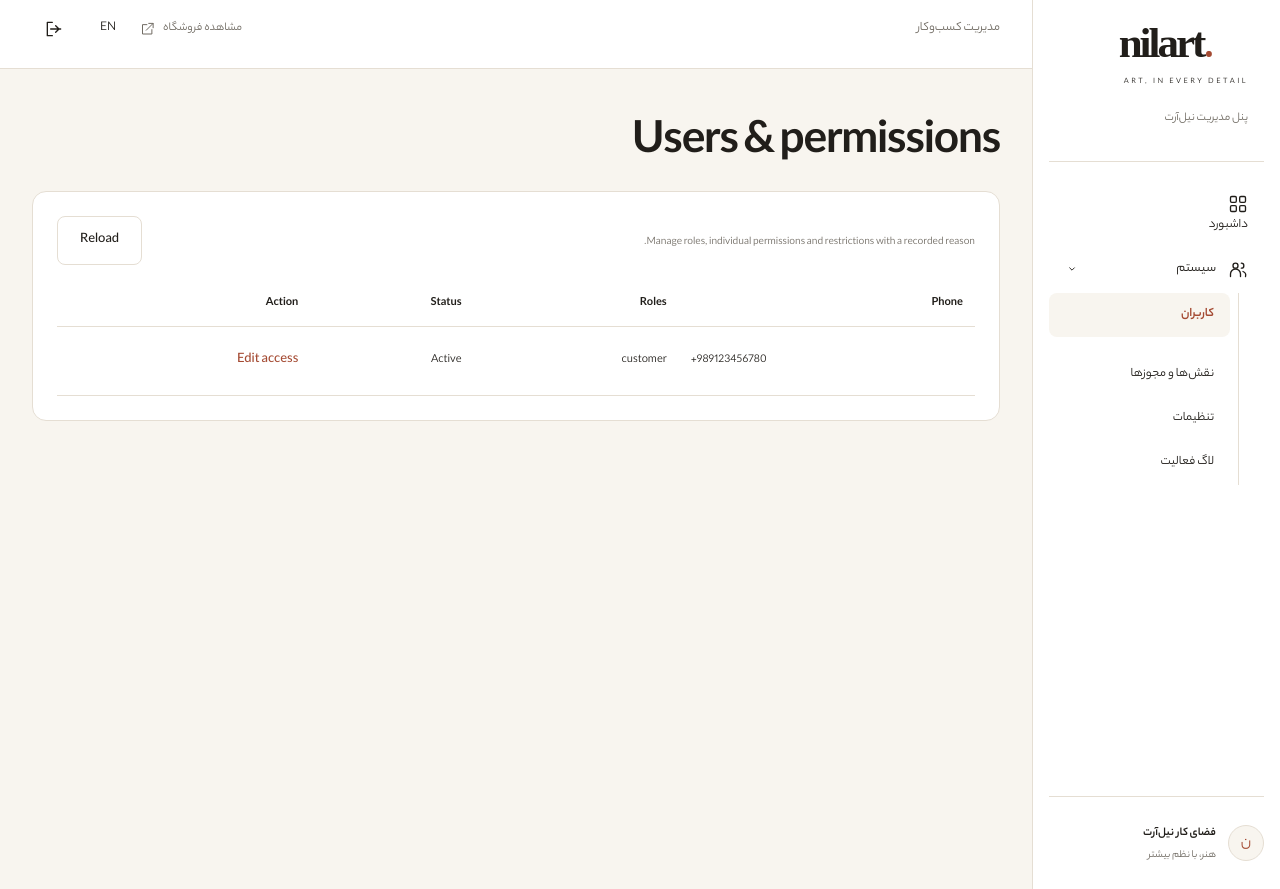
stale updates retain edits and block resubmission until reload
Click the button "Edit access" at (268, 360), box [237, 338, 298, 382]
(page scrolled)
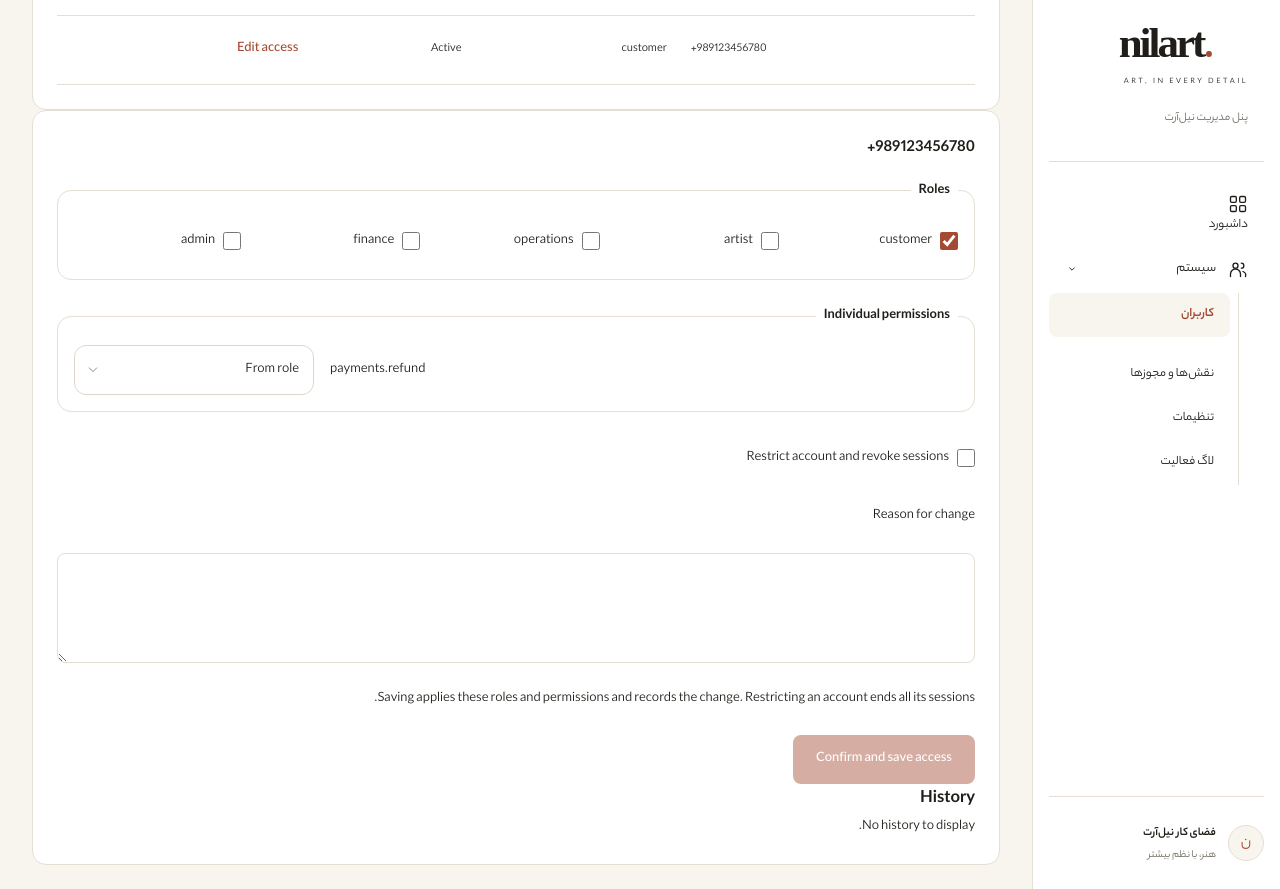
Type "Review permission" into the text box labelled "Reason for change" at (516, 608), box [57, 552, 975, 662]
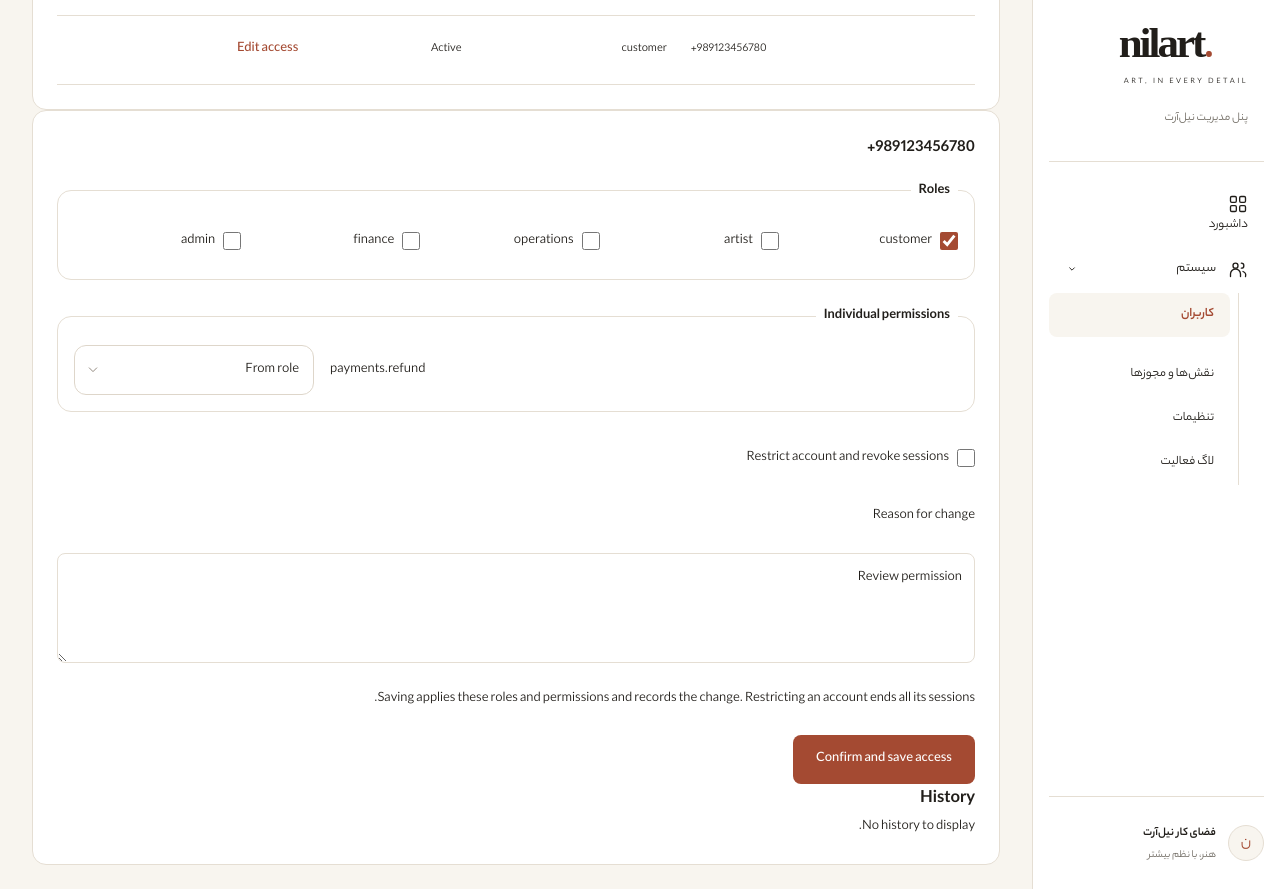
Click the button "Confirm and save access" at (884, 759), box [793, 735, 975, 784]
(page scrolled)
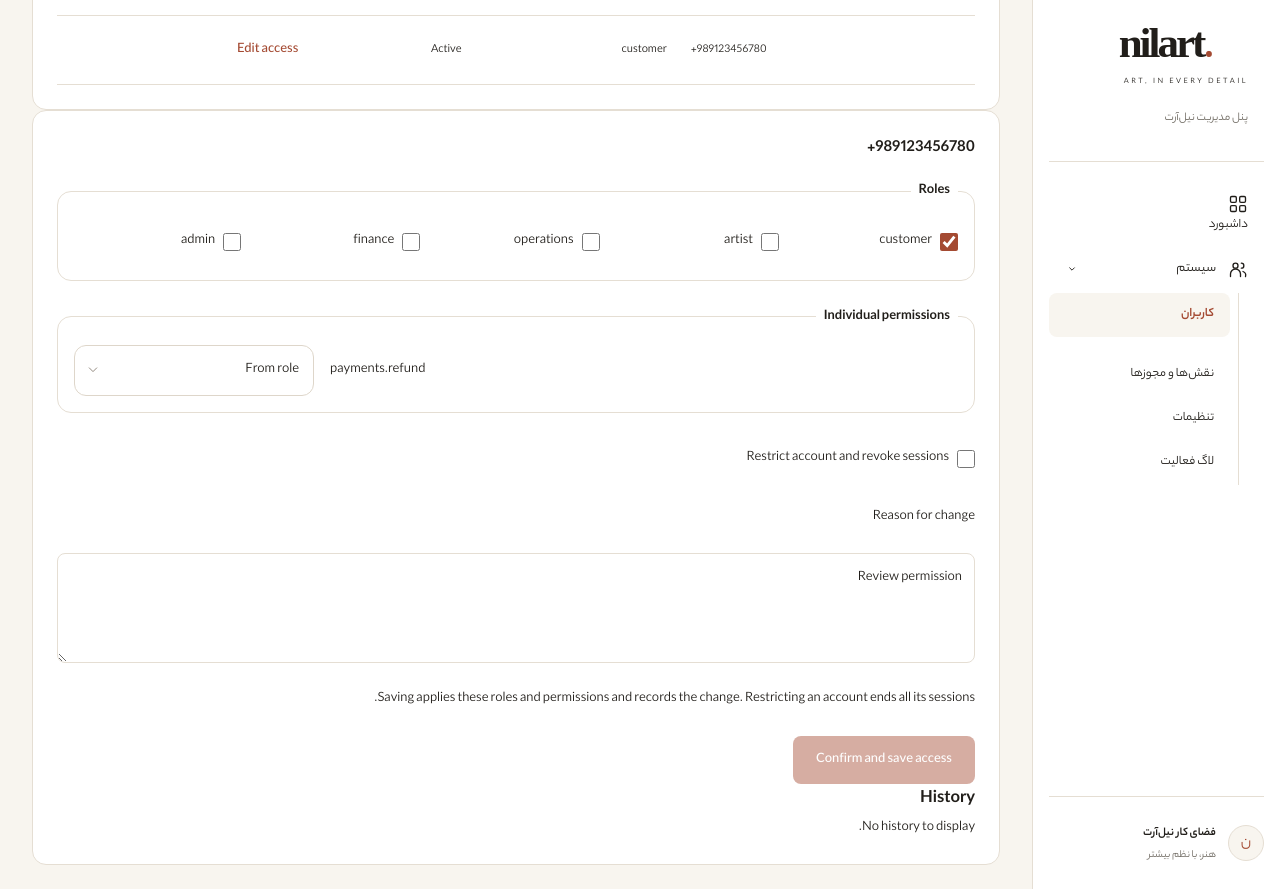
Check: the button "Confirm and save access" is disabled, box [793, 736, 975, 784]
